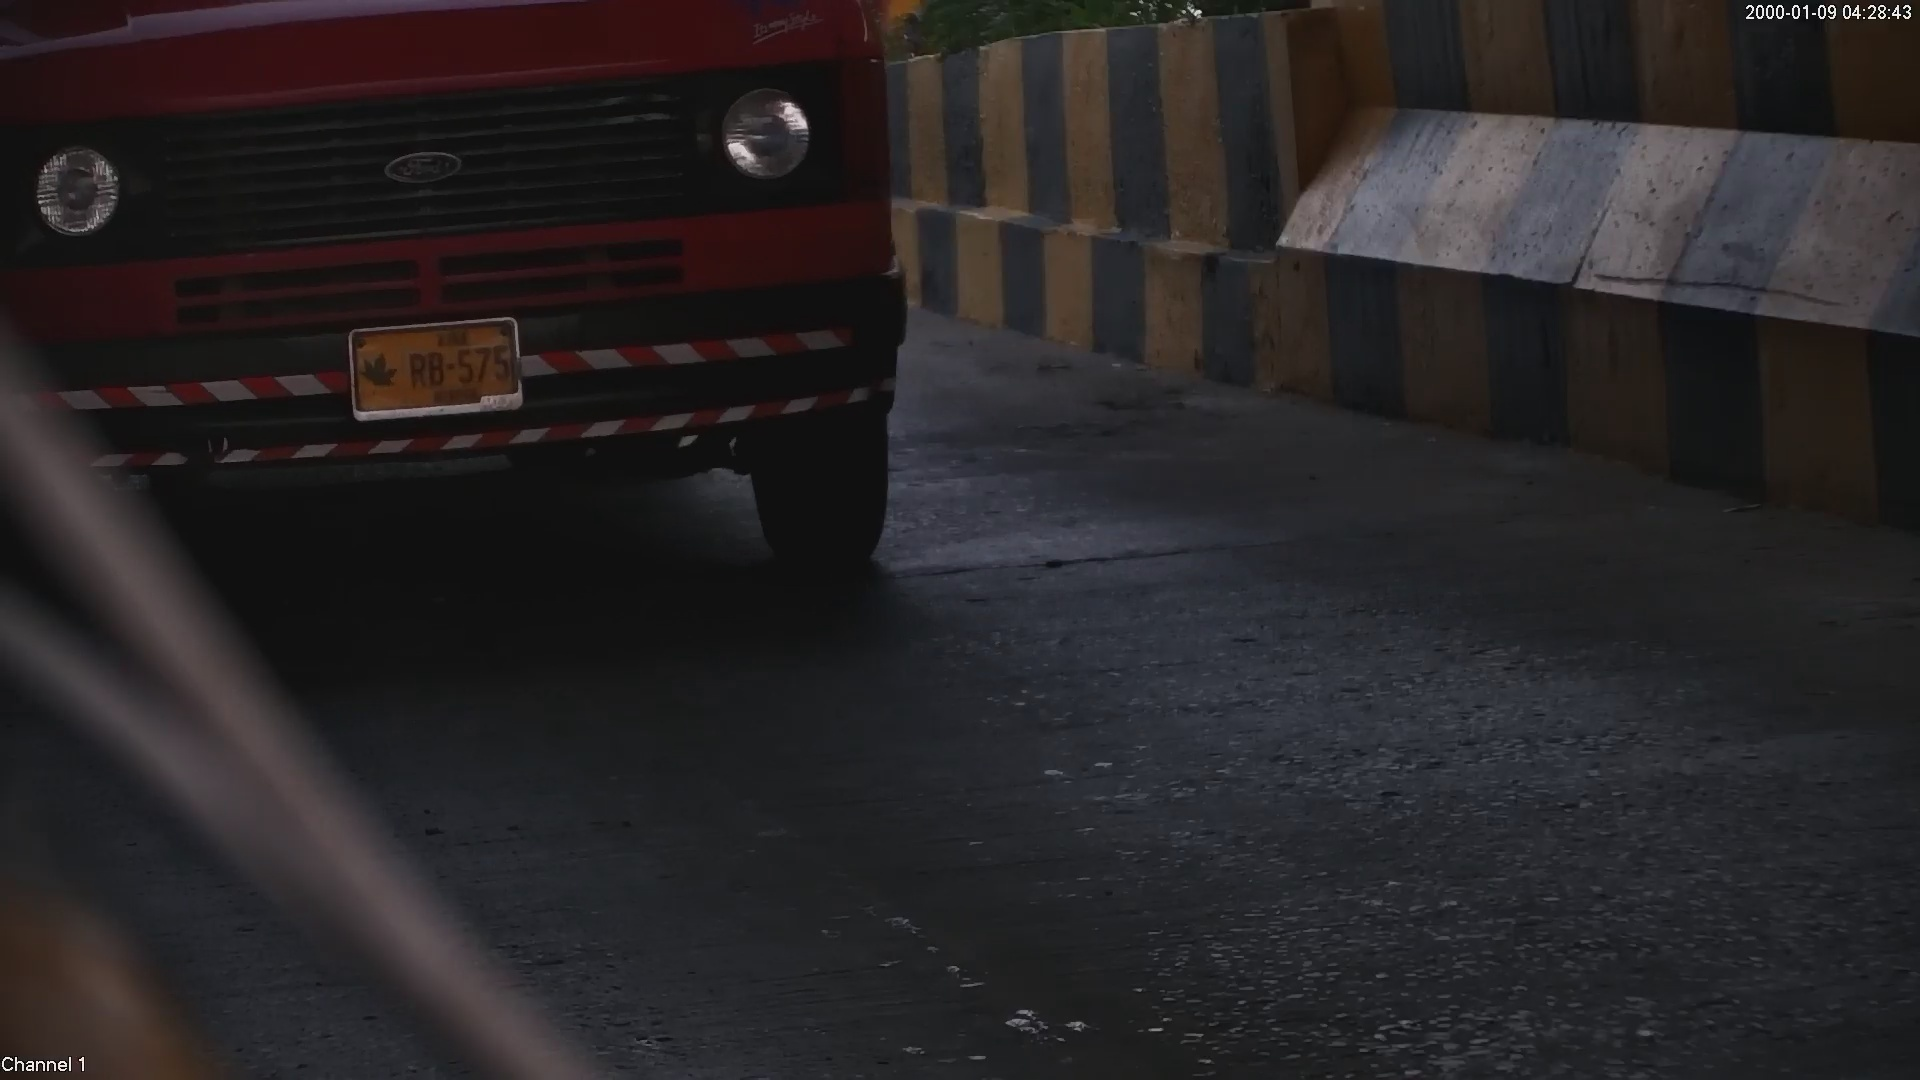Number_Plate: (343, 309, 528, 418)
Undefined: (19, 136, 137, 244), (717, 79, 821, 188), (380, 142, 473, 194)
